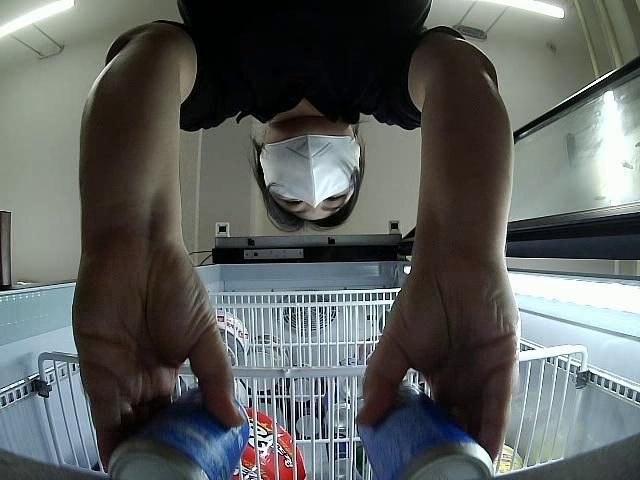15_letsbe: (107, 383, 251, 480), (359, 383, 492, 480)
